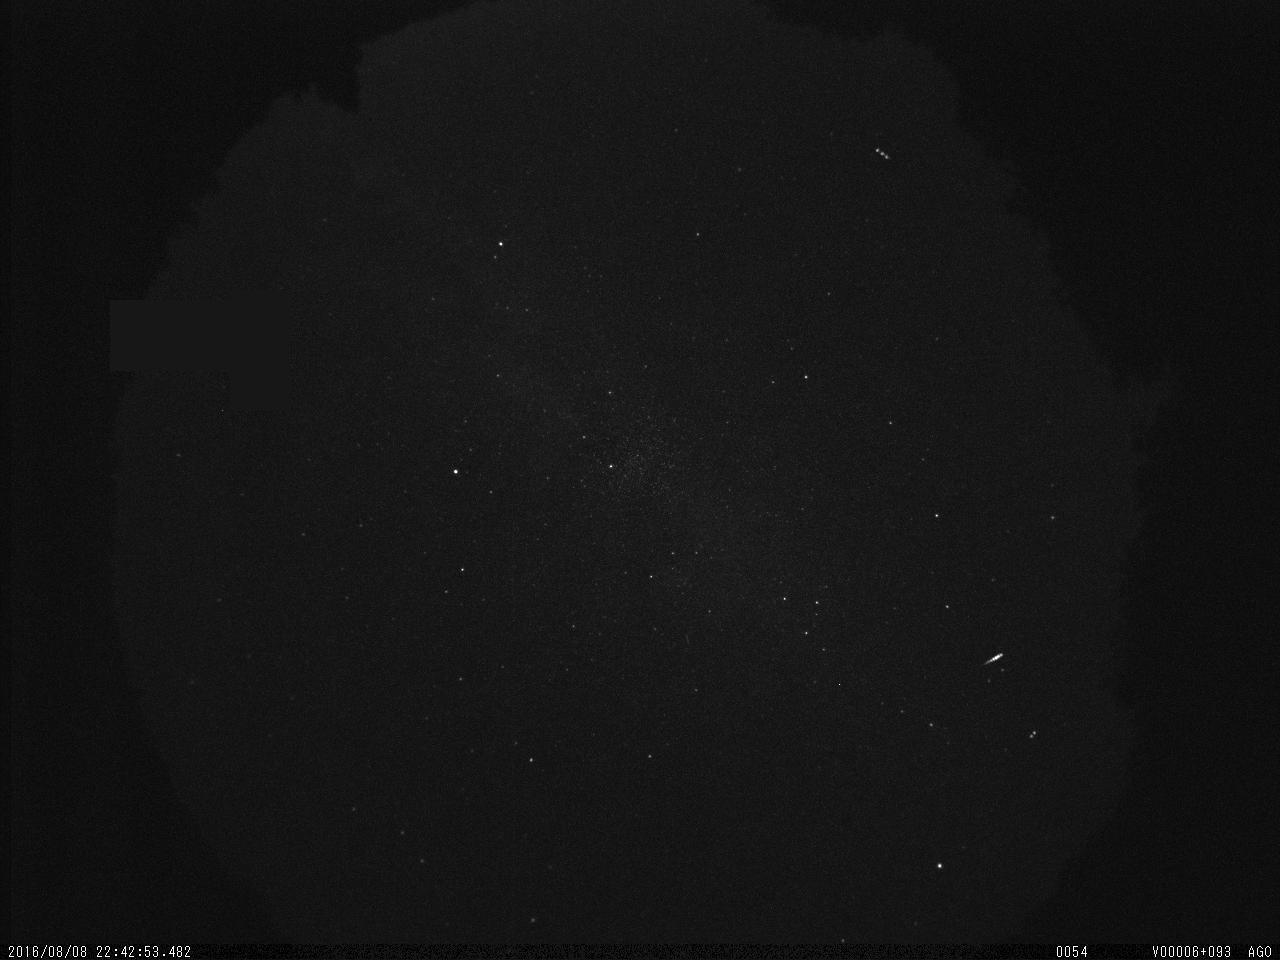meteor: (982, 643, 1008, 669)
satelite: (869, 141, 897, 166)
